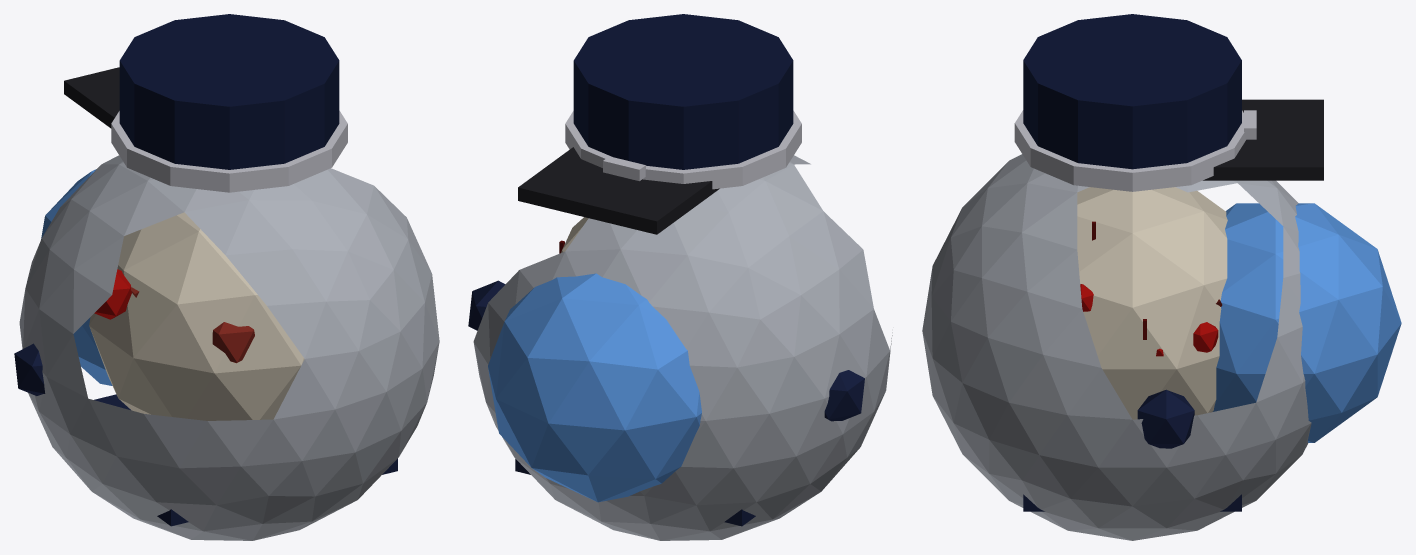
File: american_officer_headshot.glb
The picture shows the model from 3 angles, left to right: view 1: azimuth 30°, elevation 25°; view 2: azimuth 150°, elevation 25°; view 3: azimuth 270°, elevation 25°; orthographic projection.
Parts seen in each view (by area): view 1: american_officer_headshot; view 2: american_officer_headshot; view 3: american_officer_headshot.
Boxes of the visible parts, x1,y1,x2,y2 form: american_officer_headshot: (14,14,439,540); american_officer_headshot: (468,14,892,540); american_officer_headshot: (922,14,1401,540).
Bounding box in the file's own units: 1.06 × 1.21 × 1.14.
